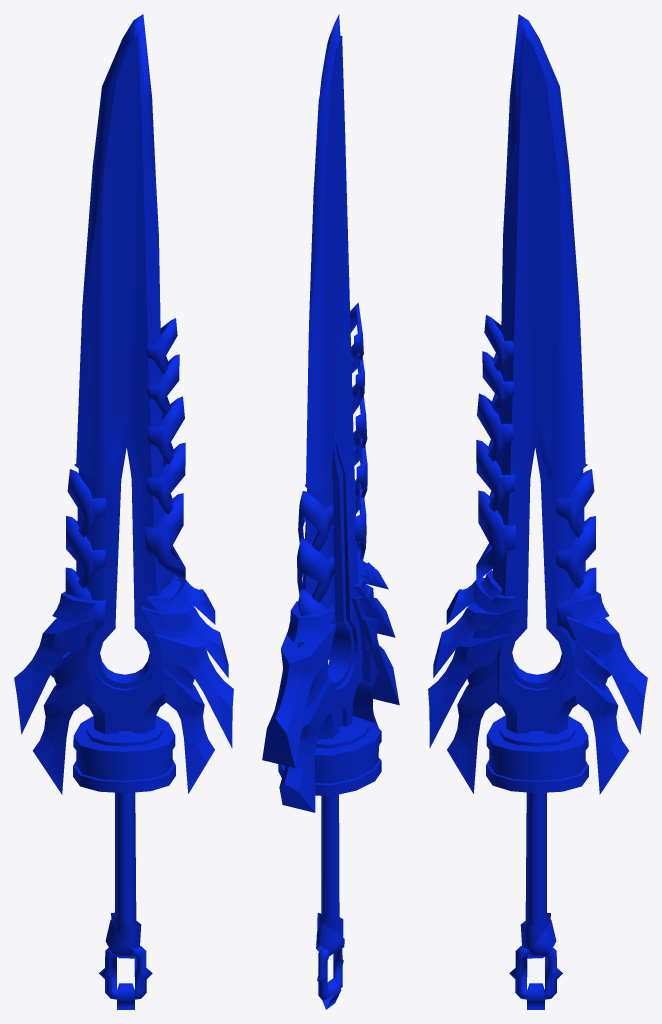
Rendered from Grruzam_Modeling_DualBlade_R.FBX.
3 views of the same model, side by side, from view 1: azimuth 90°, elevation 25°; view 2: azimuth 150°, elevation 25°; view 3: azimuth 270°, elevation 25° (orthographic).
Parts seen in each view (by area): view 1: Grruzam_DB_Weapon_R; view 2: Grruzam_DB_Weapon_R; view 3: Grruzam_DB_Weapon_R.
Boxes of the visible parts, box(x1,y1,x2,y2) form: Grruzam_DB_Weapon_R: box(14, 14, 233, 1009); Grruzam_DB_Weapon_R: box(262, 14, 399, 1009); Grruzam_DB_Weapon_R: box(428, 14, 647, 1009).
Bounding box in the file's own units: 15.01 × 157 × 31.5.
